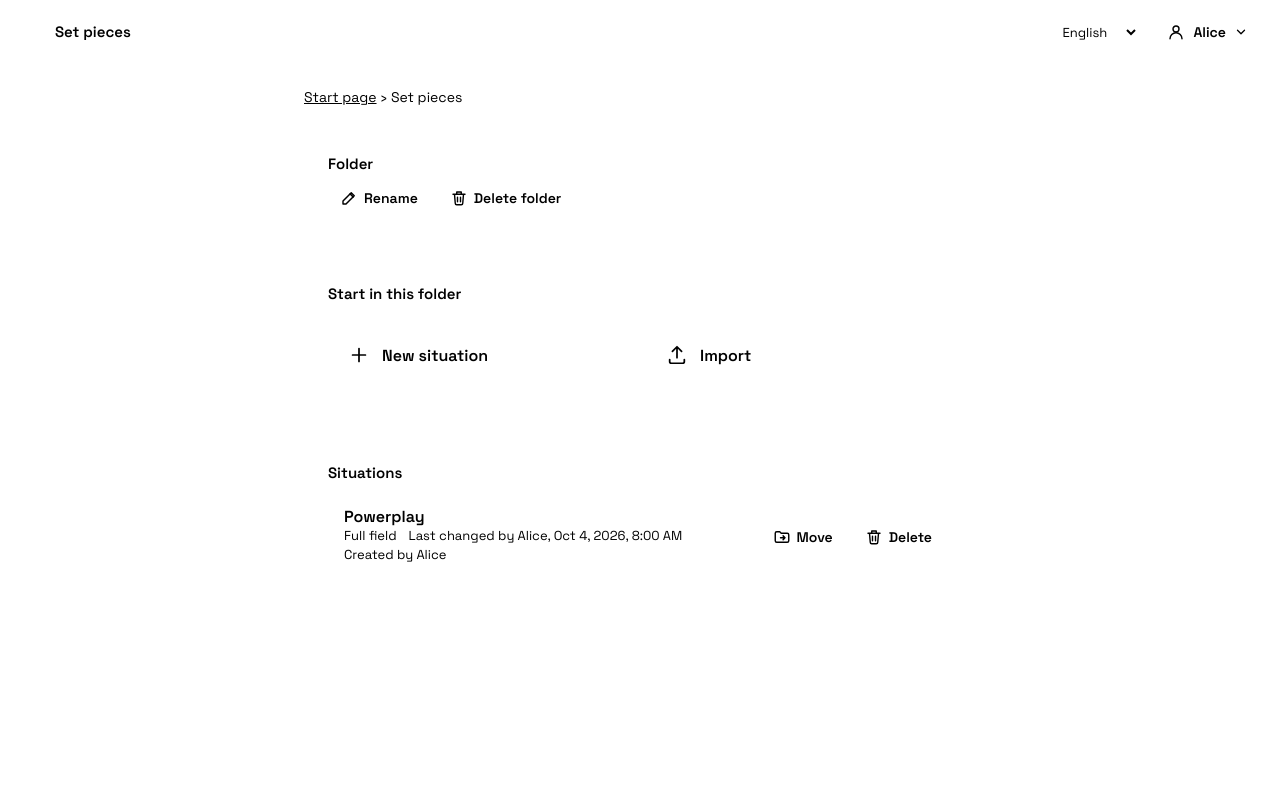
Test case: folder page › moves a situation to the top level or another folder
The image size is (1280, 800).
Click the button with aria-label "Move “Powerplay”": [803, 536] box [760,528,845,546]
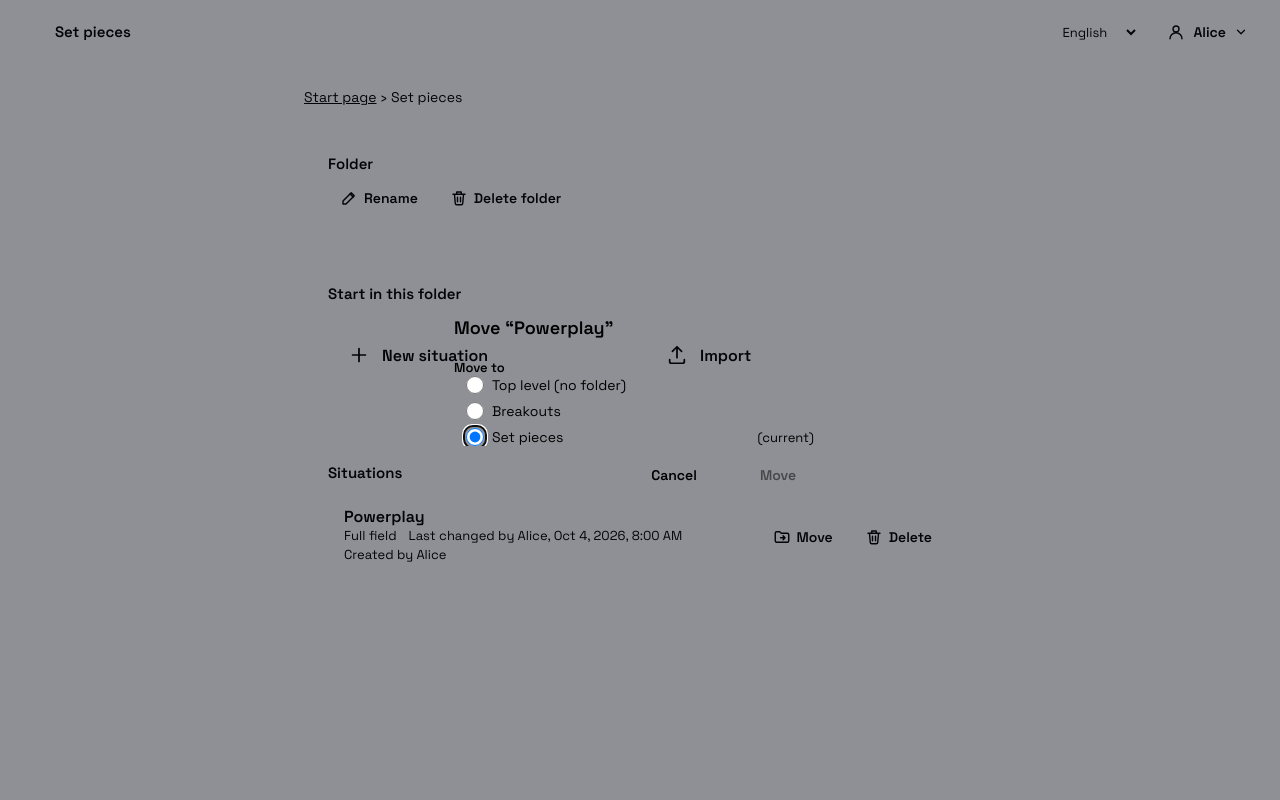
Expected: the radio button labelled "Set pieces (current)" is checked, [466,428,484,446]
Click the radio button labelled "Top level (no folder)": [475, 385] box [466,376,484,394]
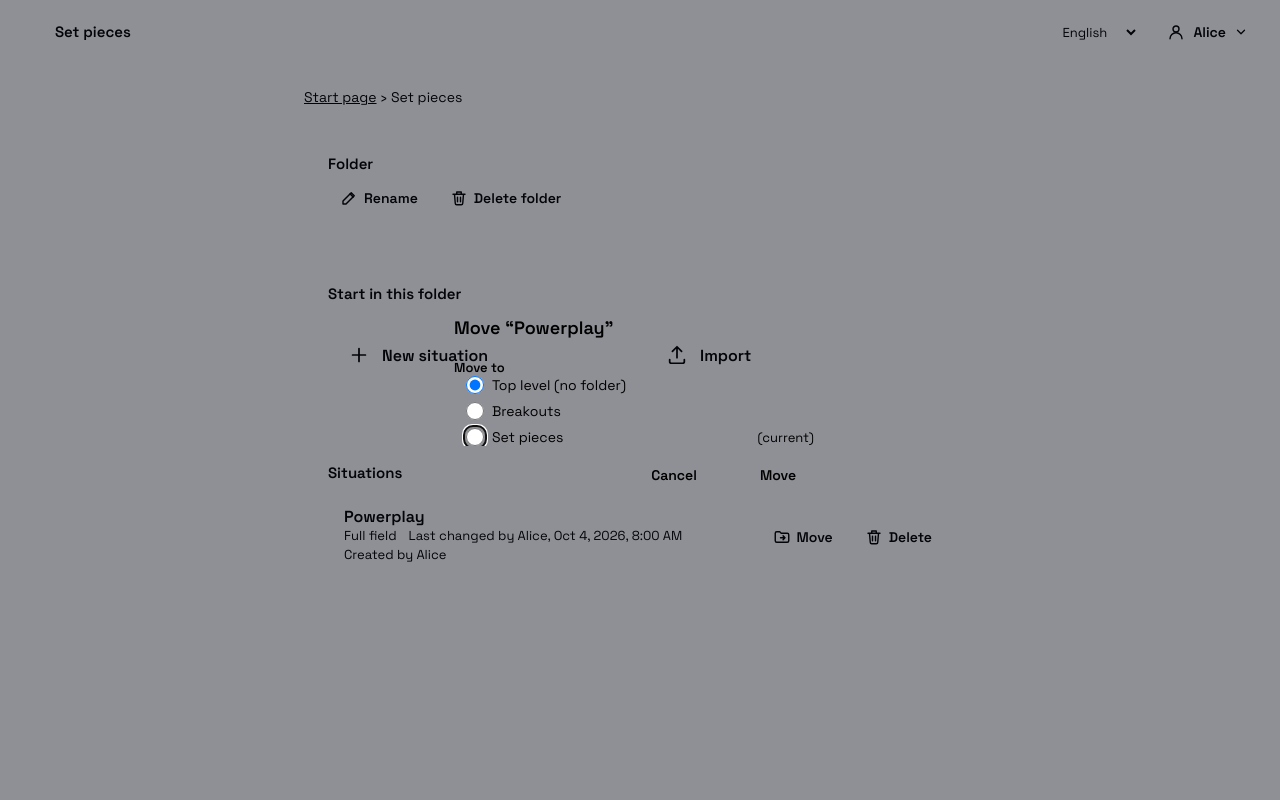
Click the button "Move": [778, 475] box [730,466,826,484]
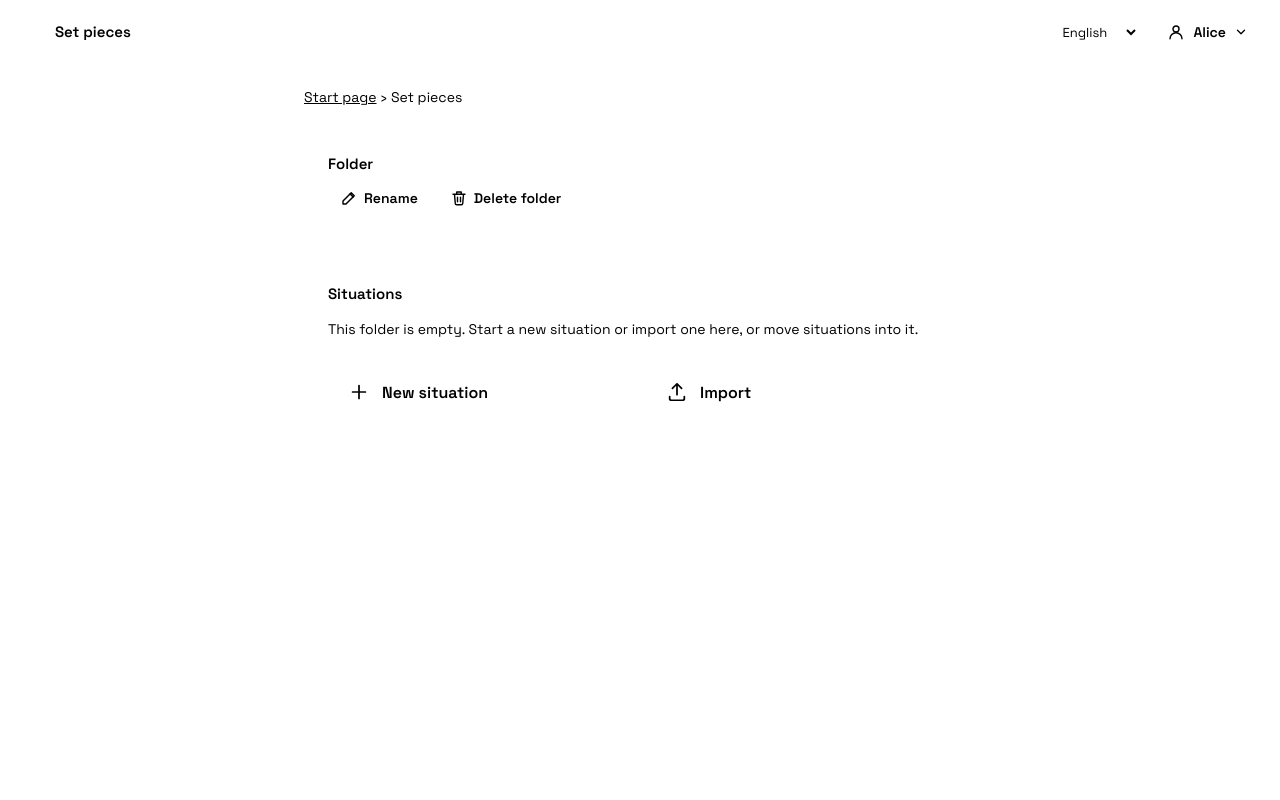
Expected: the element "Situations" shows "This folder is empty.", [328,320,918,338]
